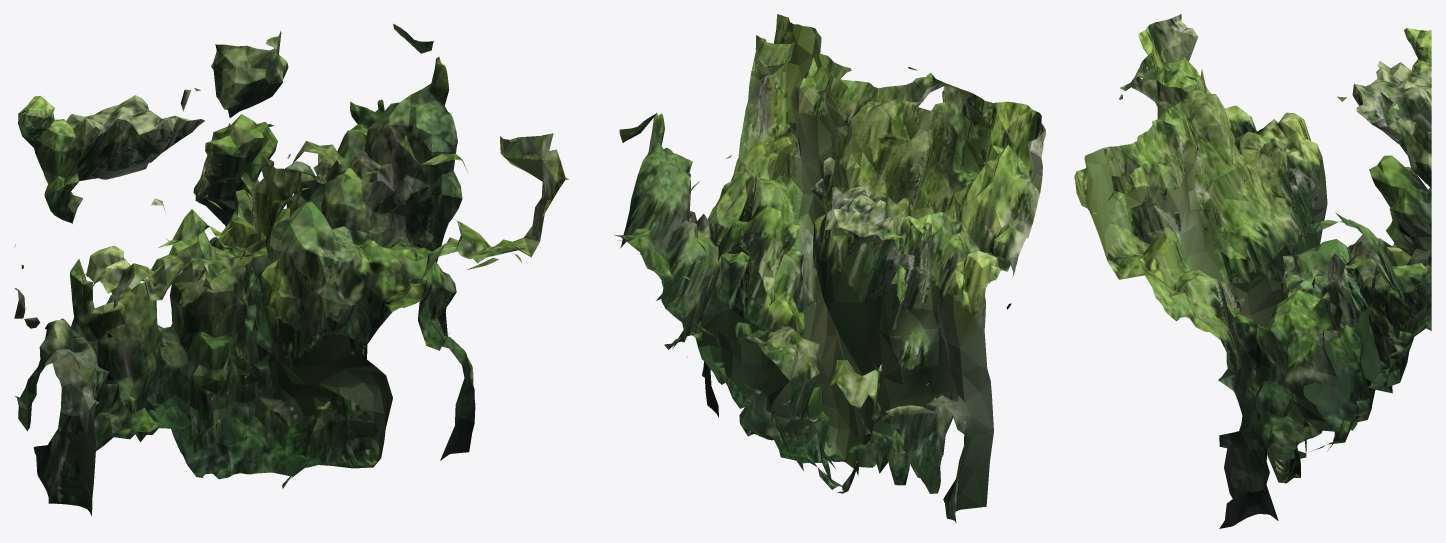
The picture shows the model from 3 angles, left to right: view 1: azimuth 30°, elevation 25°; view 2: azimuth 150°, elevation 25°; view 3: azimuth 270°, elevation 25°; orthographic projection. The views are drawn at different scales.
Bounding box in the file's own units: 26.11 × 26.11 × 24.09.
Materials: 7 (7 with a texture image).
